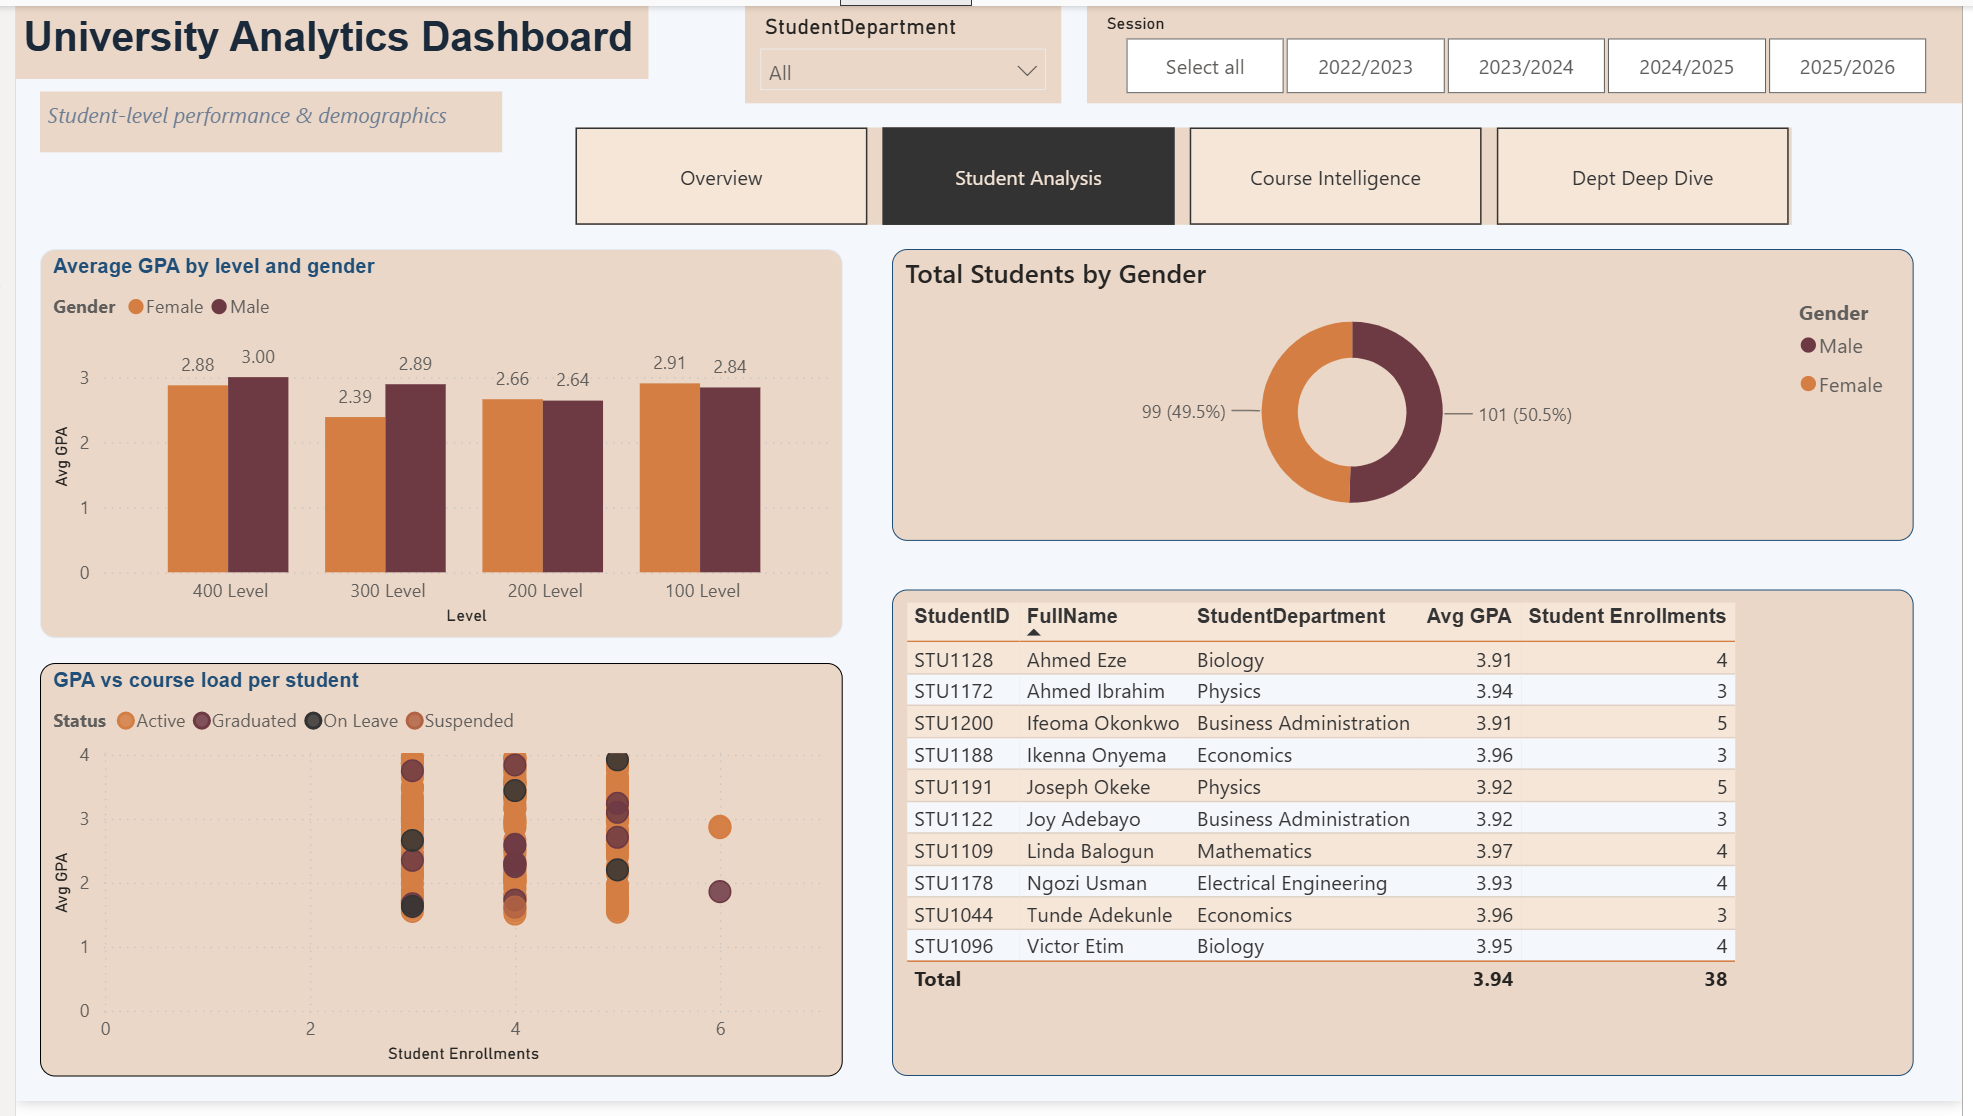

What the dashboard file says about the page in this screenshot:
{"tool":"powerbi","page":{"name":"Student Analysis","canvas":[1280,720],"ordinal":1},"visuals":[{"type":"textbox","box":[16,56,304,40],"z":0},{"type":"textbox","box":[0,0,416,48],"z":1000},{"type":"slicer","fields":{"Values":["University_Data.StudentDepartment"]},"box":[1056,0,208,64],"z":2000},{"type":"slicer","fields":{"Values":["University_Data.Session"]},"box":[432,0,568,64],"z":3000},{"type":"clusteredColumnChart","title":"Average GPA by level and gender","fields":{"Category":["University_Data.Level"],"Y":["University_Data.Avg GPA"],"Series":["University_Data.Gender"]},"box":[16,160,528,256],"z":4000},{"type":"scatterChart","title":"GPA vs course load per student","fields":{"X":["University_Data.Student Enrollments"],"Series":["University_Data.Status"],"Y":["University_Data.Avg GPA"],"Category":["University_Data.StudentID"]},"box":[16,424,528,280],"z":5000},{"type":"donutChart","fields":{"Category":["University_Data.Gender"],"Y":["University_Data.Total Students"]},"box":[576,160,672,256],"z":6000},{"type":"tableEx","fields":{"Values":["University_Data.StudentID","University_Data.FullName","University_Data.StudentDepartment","University_Data.Avg GPA","University_Data.Student Enrollments"]},"box":[576,424,672,280],"z":7000},{"type":"pageNavigator","box":[328,72,800,72],"z":8000}]}

Visuals, with their boxes in screenshot pixels (x1, y1, x2, y2), scaled from the page's 1280x720 canvas onto the 1973x1116 screenshot:
textbox: (left=25, top=87, right=493, bottom=149)
textbox: (left=0, top=0, right=641, bottom=74)
slicer - University_Data.StudentDepartment: (left=1628, top=0, right=1948, bottom=99)
slicer - University_Data.Session: (left=666, top=0, right=1541, bottom=99)
"Average GPA by level and gender" clusteredColumnChart: (left=25, top=248, right=839, bottom=645)
"GPA vs course load per student" scatterChart: (left=25, top=657, right=839, bottom=1091)
donutChart - University_Data.Gender x University_Data.Total Students: (left=888, top=248, right=1924, bottom=645)
tableEx - University_Data.StudentID x University_Data.FullName: (left=888, top=657, right=1924, bottom=1091)
pageNavigator: (left=506, top=112, right=1739, bottom=223)
